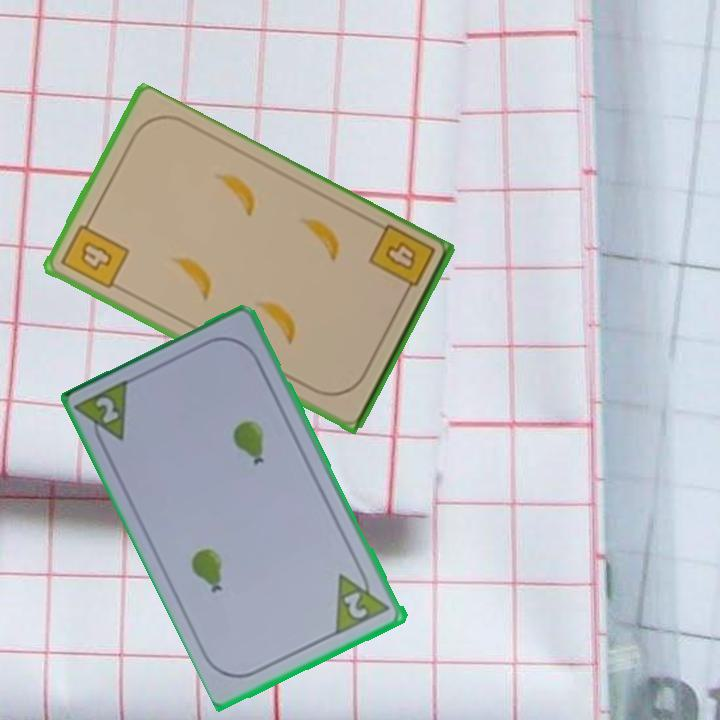2p: (73, 375, 135, 454), (341, 588, 372, 622)
4b: (57, 213, 133, 292), (365, 221, 439, 302)
